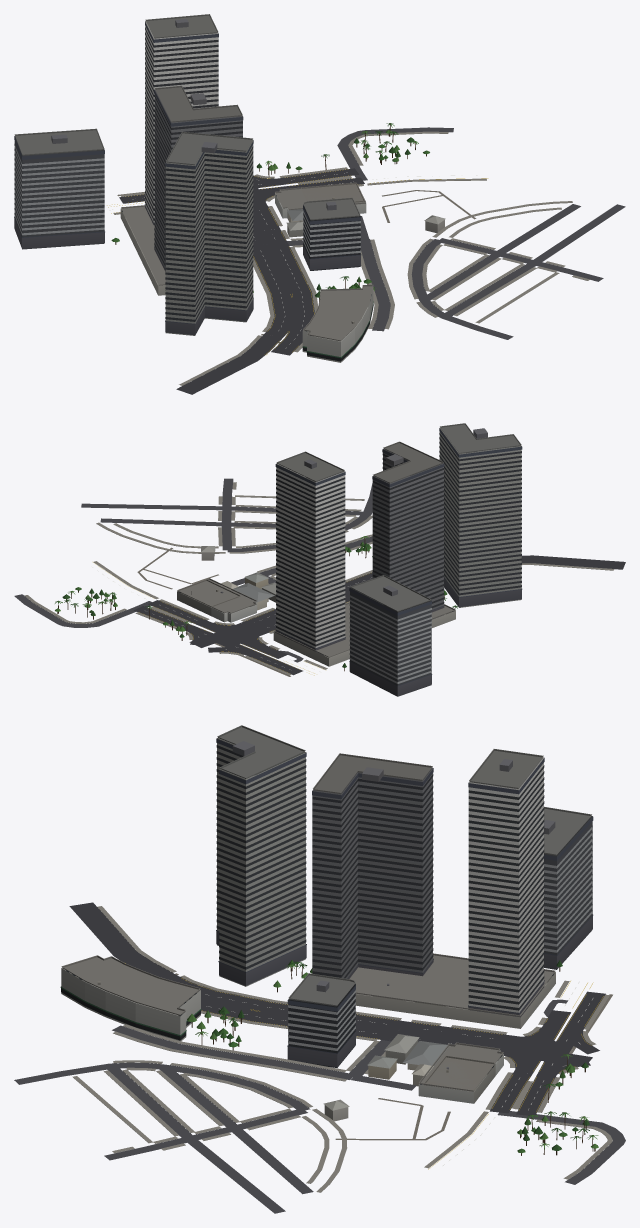
3 renders of one model, top to bottom at view 1: azimuth 30°, elevation 25°; view 2: azimuth 150°, elevation 25°; view 3: azimuth 270°, elevation 25°, orthographic. The views are drawn at different scales.
Visible parts, largest first — view 1: Palatine-col, Avalon-col, Roads_Major__r-9c-3, Roads_Minor__r-9c-3, Turqoise-col, Sidewalks__r-9c-3-col, Cyan-col, Buildings__r-9c-3-col, 2Quad Building-col, Pioneer House Cebu-col, Props_Foliage__r-9c-3, Markings__r-9c-3; view 2: Palatine-col, Turqoise-col, Cyan-col, Avalon-col, Buildings__r-9c-3-col, Roads_Major__r-9c-3, Roads_Minor__r-9c-3, Sidewalks__r-9c-3-col, Props_Foliage__r-9c-3, Footways__r-9c-3; view 3: Cyan-col, Palatine-col, Turqoise-col, Buildings__r-9c-3-col, Roads_Major__r-9c-3, Roads_Minor__r-9c-3, Sidewalks__r-9c-3-col, 2Quad Building-col, Avalon-col, Pioneer House Cebu-col, Props_Foliage__r-9c-3, Markings__r-9c-3 (+1 smaller).
Boxes of the visible parts, x1,y1,x2,y2 form: Palatine-col: (165,131,253,335); Avalon-col: (14,128,104,249); Roads_Major__r-9c-3: (119,168,364,394); Roads_Minor__r-9c-3: (287,127,625,339); Turqoise-col: (144,14,218,224); Sidewalks__r-9c-3-col: (113,131,589,385); Cyan-col: (154,85,243,271); Buildings__r-9c-3-col: (120,182,445,295); 2Quad Building-col: (302,284,373,362); Pioneer House Cebu-col: (303,197,361,270); Props_Foliage__r-9c-3: (111,123,429,297); Markings__r-9c-3: (107,169,488,354); Palatine-col: (439,423,522,607); Turqoise-col: (275,451,345,655); Cyan-col: (372,441,444,619); Avalon-col: (349,575,432,696); Buildings__r-9c-3-col: (177,546,455,666); Roads_Major__r-9c-3: (133,555,625,675); Roads_Minor__r-9c-3: (14,478,372,662); Sidewalks__r-9c-3-col: (24,482,614,675); Props_Foliage__r-9c-3: (55,536,457,667); Footways__r-9c-3: (137,547,290,676); Cyan-col: (312,753,433,978); Palatine-col: (216,725,306,986); Turqoise-col: (468,749,544,1017); Buildings__r-9c-3-col: (323,953,555,1121); Roads_Major__r-9c-3: (69,902,605,1116); Roads_Minor__r-9c-3: (14,999,625,1213); Sidewalks__r-9c-3-col: (72,906,612,1192); 2Quad Building-col: (60,955,201,1041); Avalon-col: (544,806,593,969); Pioneer House Cebu-col: (287,973,356,1067); Props_Foliage__r-9c-3: (187,960,598,1153); Markings__r-9c-3: (125,963,603,1169).
Size of what is drawn, in the model's own units: 377 by 139 by 313.
